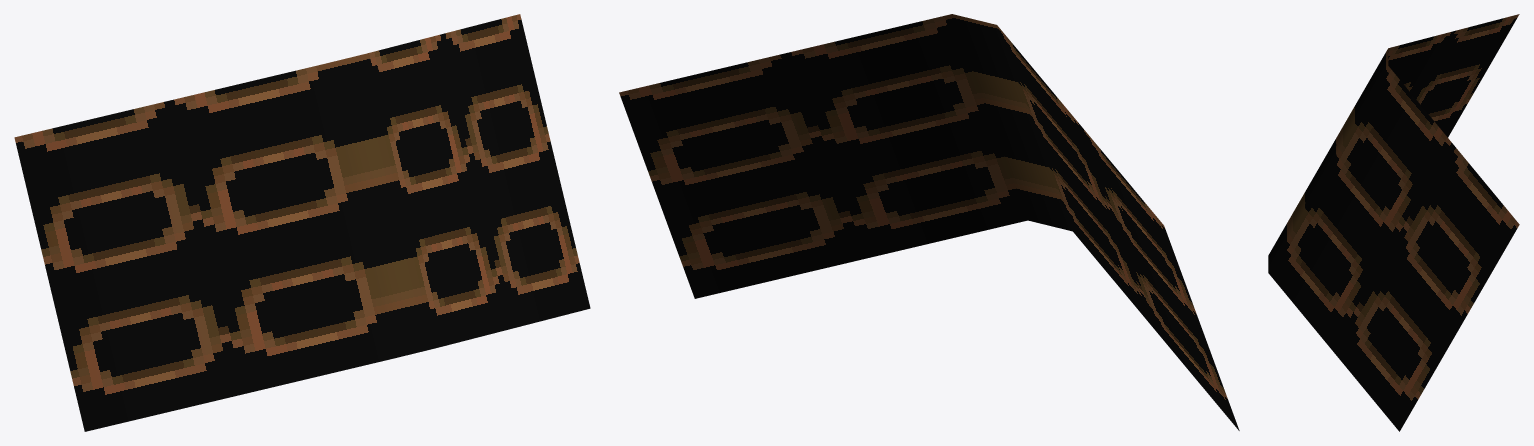
File: 5786head108_c.gltf
The picture shows the model from 3 angles, left to right: view 1: azimuth 30°, elevation 25°; view 2: azimuth 150°, elevation 25°; view 3: azimuth 270°, elevation 25°; orthographic projection. The views are drawn at different scales.
Parts seen in each view (by area): view 1: 5786head108_c; view 2: 5786head108_c; view 3: 5786head108_c.
Part boxes in pixels (bbox=[...]): 5786head108_c: bbox=[14, 14, 590, 431]; 5786head108_c: bbox=[619, 14, 1239, 430]; 5786head108_c: bbox=[1268, 14, 1519, 431].
Bounding box in the file's own units: 0.6523 × 0.3896 × 0.3291.
1 material, 1 textured.
